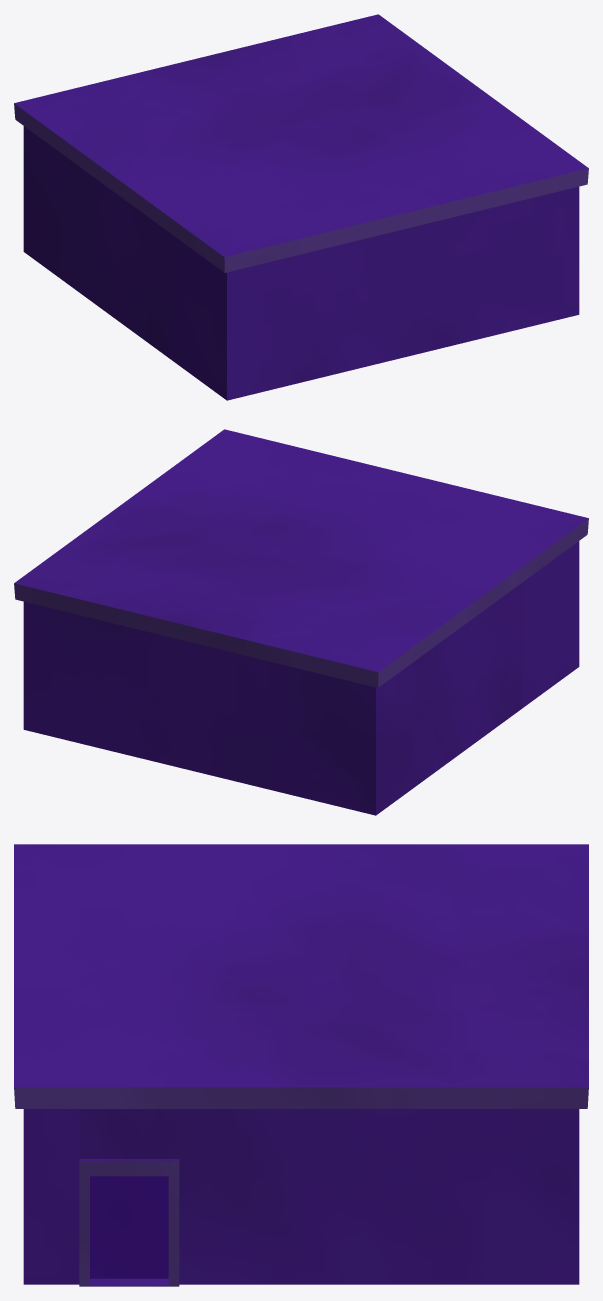
File: SM_ModularBottomBuilding1.fbx
The picture shows the model from 3 angles, top to bottom: view 1: azimuth 30°, elevation 25°; view 2: azimuth 150°, elevation 25°; view 3: azimuth 270°, elevation 25°; orthographic projection. The views are drawn at different scales.
Visible parts, largest first — view 1: BottomBuilding1; view 2: BottomBuilding1; view 3: BottomBuilding1.
Boxes of the visible parts, x1,y1,x2,y2 form: BottomBuilding1: [14, 14, 588, 400]; BottomBuilding1: [14, 429, 588, 815]; BottomBuilding1: [14, 844, 588, 1286].
Bounding box in the file's own units: 10.35 × 4 × 10.35.
